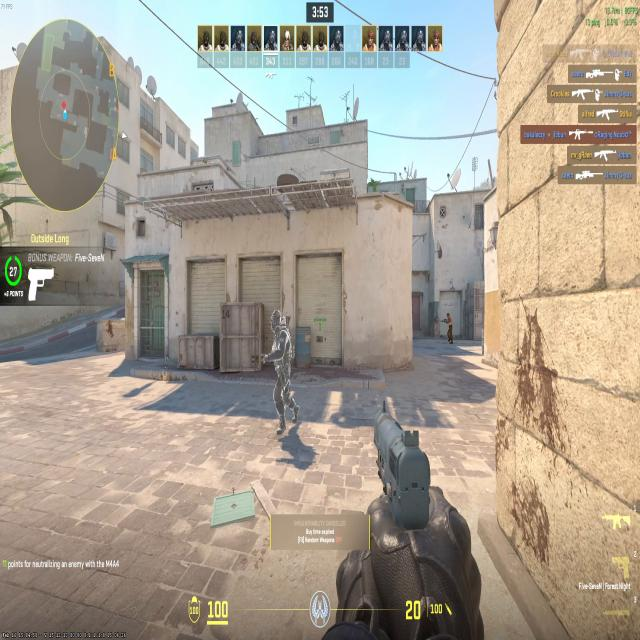player: (259, 307, 303, 438), (442, 310, 458, 348)
